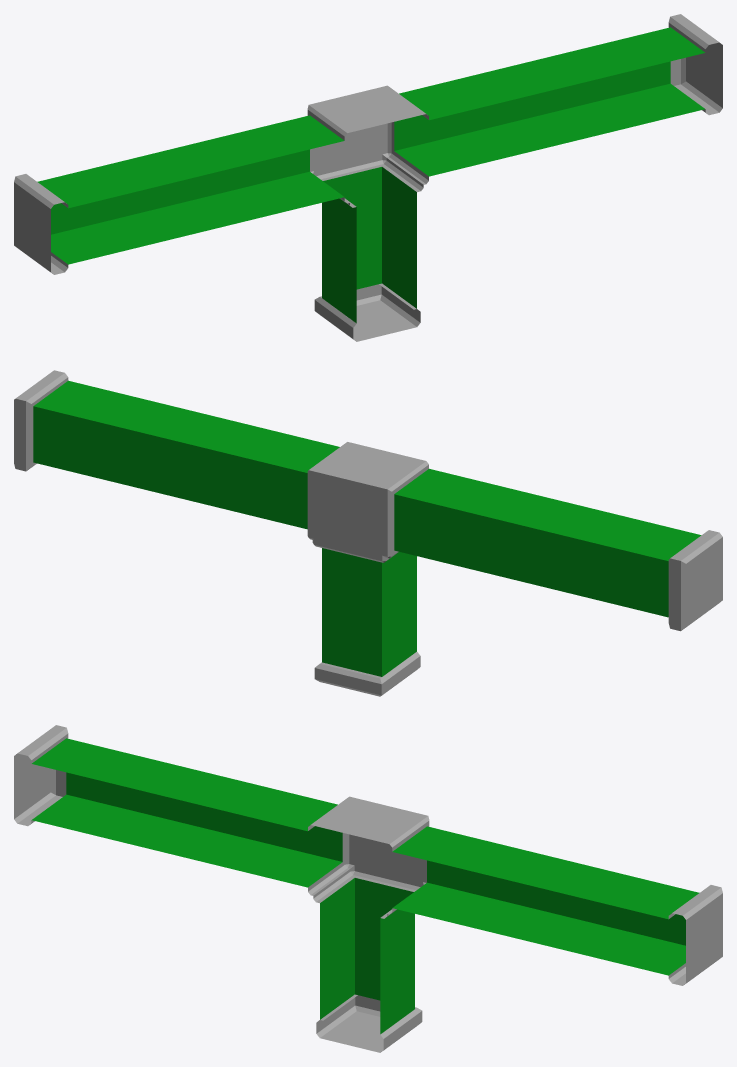
Rendered from Geo_Energy_Pipe_Forklong.fbx.
3 renders of one model, top to bottom at view 1: azimuth 30°, elevation 25°; view 2: azimuth 150°, elevation 25°; view 3: azimuth 330°, elevation 25°, orthographic.
Visible parts, largest first — view 1: Geo_Energy_Pipe_forklong; view 2: Geo_Energy_Pipe_forklong; view 3: Geo_Energy_Pipe_forklong.
Boxes of the visible parts, <box> form: Geo_Energy_Pipe_forklong: <box>14,14,722,341</box>; Geo_Energy_Pipe_forklong: <box>14,370,722,696</box>; Geo_Energy_Pipe_forklong: <box>14,725,722,1052</box>.
Bounding box in the file's own units: 100 × 30 × 10.
